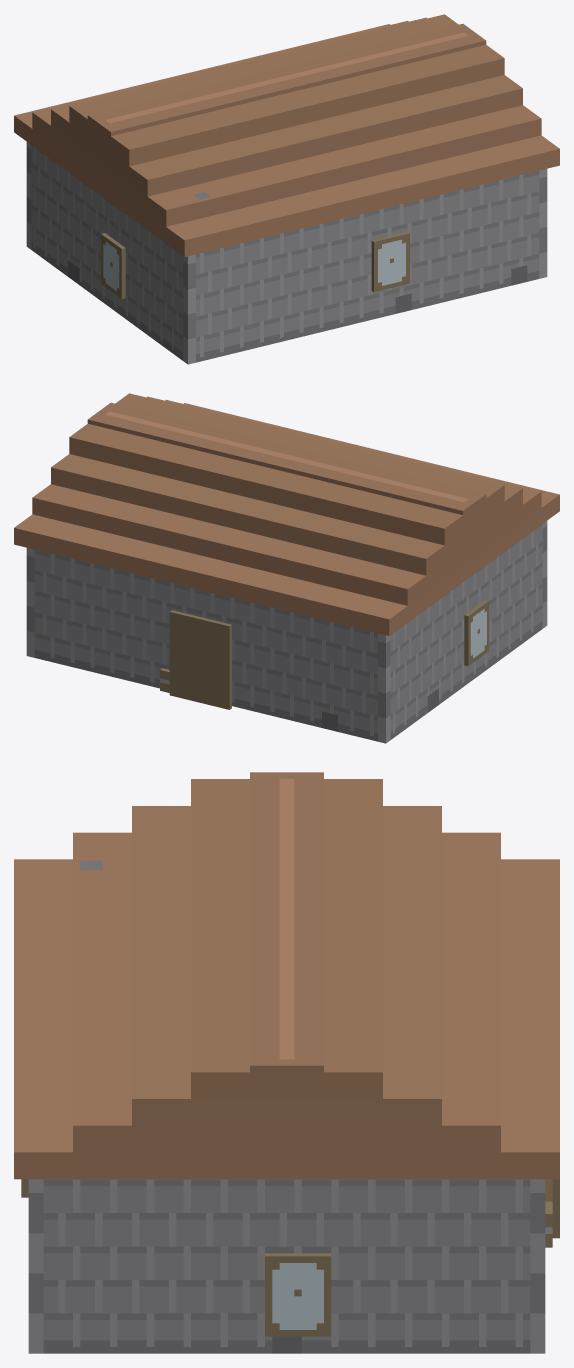
File: gran_herreria_03.glb
3 renders of one model, top to bottom at view 1: azimuth 30°, elevation 25°; view 2: azimuth 150°, elevation 25°; view 3: azimuth 270°, elevation 25°, orthographic. The views are drawn at different scales.
Parts seen in each view (by area): view 1: gran_herreria_03; view 2: gran_herreria_03; view 3: gran_herreria_03.
Part boxes in pixels (<box>): gran_herreria_03: <box>14,14,559,364</box>; gran_herreria_03: <box>14,393,559,743</box>; gran_herreria_03: <box>14,772,559,1353</box>.
Size of the model in its own units: 9.4 by 4.4 by 7.4.
